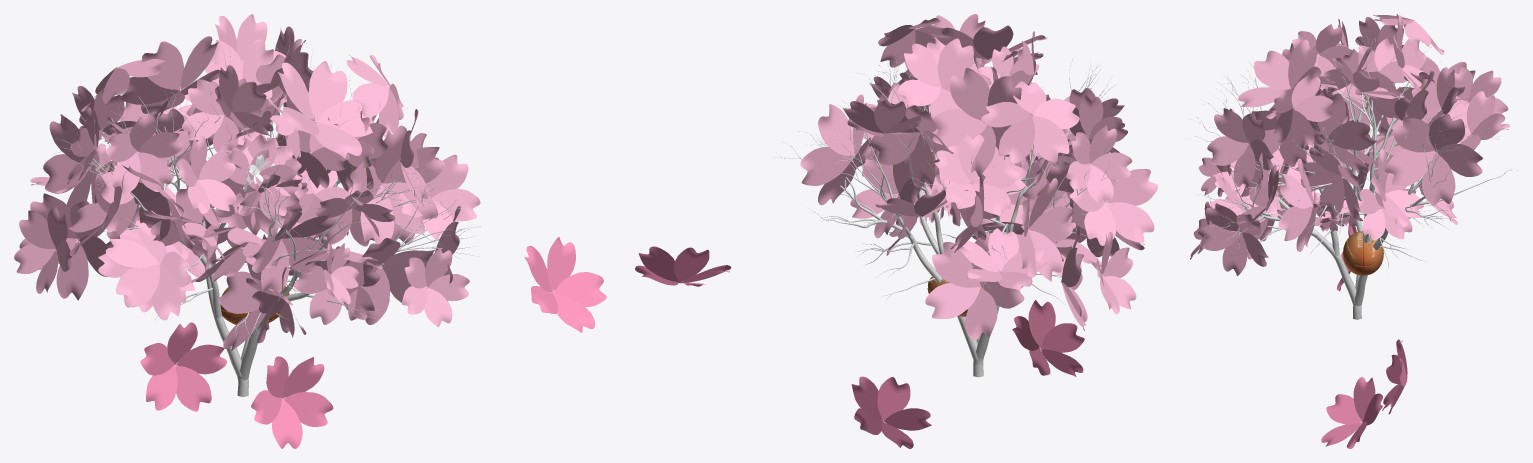
File: sakura.glb
The picture shows the model from 3 angles, left to right: view 1: azimuth 30°, elevation 25°; view 2: azimuth 150°, elevation 25°; view 3: azimuth 270°, elevation 25°; orthographic projection. The views are drawn at different scales.
Visible parts, largest first — view 1: sakura_flowers_static, tree, 平面.002, 平面.003, 平面.005; view 2: sakura_flowers_static, tree, 平面.003, 平面.002, 平面.005; view 3: sakura_flowers_static, tree, 平面.005, RugbyBall_Brown, 平面.003.
Part boxes in pixels (x1,y1,x2,y2): sakura_flowers_static: [14, 14, 480, 353]; tree: [44, 45, 480, 396]; 平面.002: [140, 322, 226, 411]; 平面.003: [251, 356, 333, 448]; 平面.005: [524, 237, 606, 332]; sakura_flowers_static: [800, 14, 1157, 340]; tree: [774, 47, 1125, 377]; 平面.003: [851, 376, 931, 448]; 平面.002: [1012, 300, 1084, 377]; 平面.005: [635, 246, 731, 286]; sakura_flowers_static: [1190, 14, 1510, 275]; tree: [1190, 32, 1517, 319]; 平面.005: [1321, 377, 1382, 448]; RugbyBall_Brown: [1343, 231, 1383, 275]; 平面.003: [1382, 339, 1407, 414].
Size of what is drawn, in the model's own units: 15.6 by 11.7 by 10.13.
4 materials, 1 textured.
